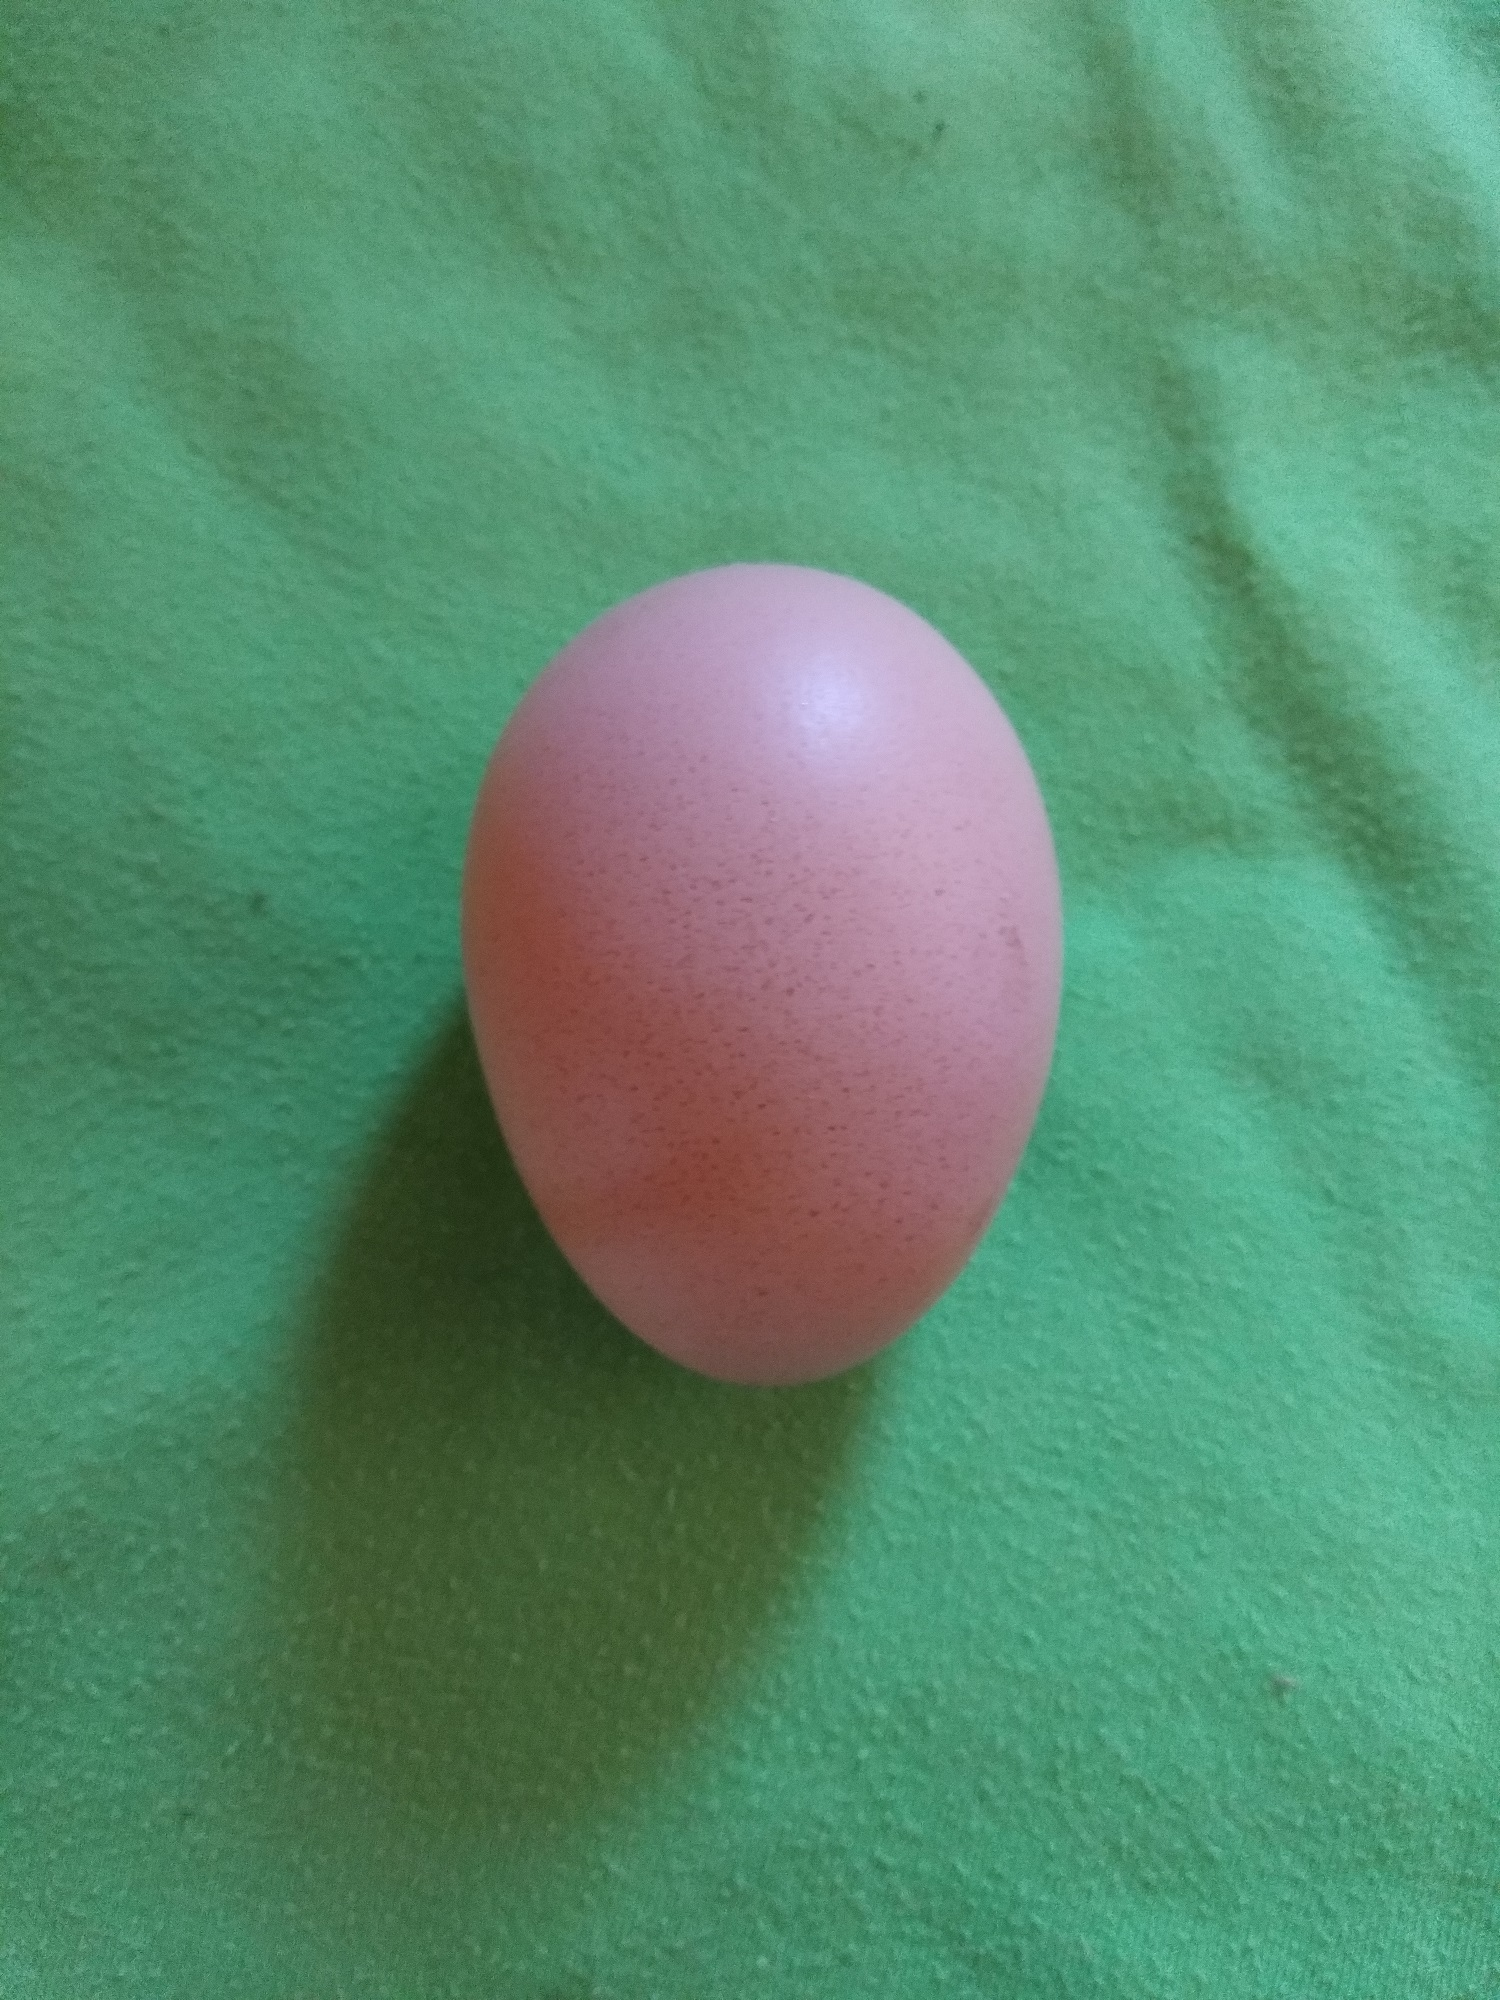Female: (447, 553, 1070, 1395)
